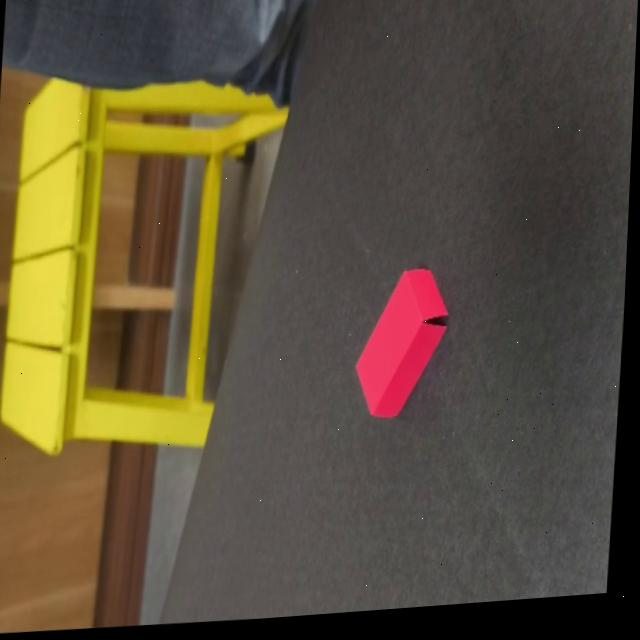red block: (350, 261, 452, 420)
